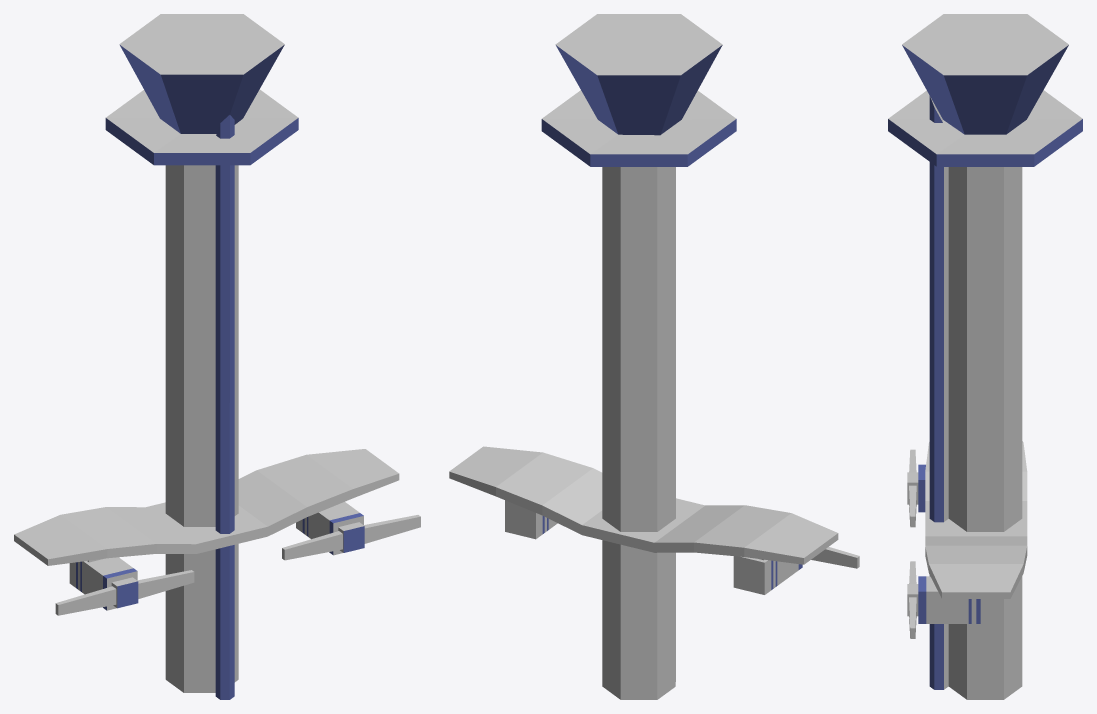
Rendered from Tideturb.fbx.
3 views of the same model, side by side, from view 1: azimuth 30°, elevation 25°; view 2: azimuth 150°, elevation 25°; view 3: azimuth 270°, elevation 25° (orthographic).
Visible parts, largest first — view 1: Cylinder, Plane, Cylinder.001, Cube; view 2: Cylinder, Plane, Cube; view 3: Cylinder, Plane, Cylinder.001, Cube.
Boxes of the visible parts, x1,y1,x2,y2 form: Cylinder: (105,14,298,692); Plane: (14,449,399,565); Cylinder.001: (215,115,234,699); Cube: (55,502,420,615); Cylinder: (541,14,736,699); Plane: (449,446,838,564); Cube: (505,500,859,594); Cylinder: (888,14,1082,699); Plane: (925,441,1027,598); Cylinder.001: (929,96,943,689); Cube: (907,449,993,638).
Size of the model in its own units: 621 by 1041 by 286.
